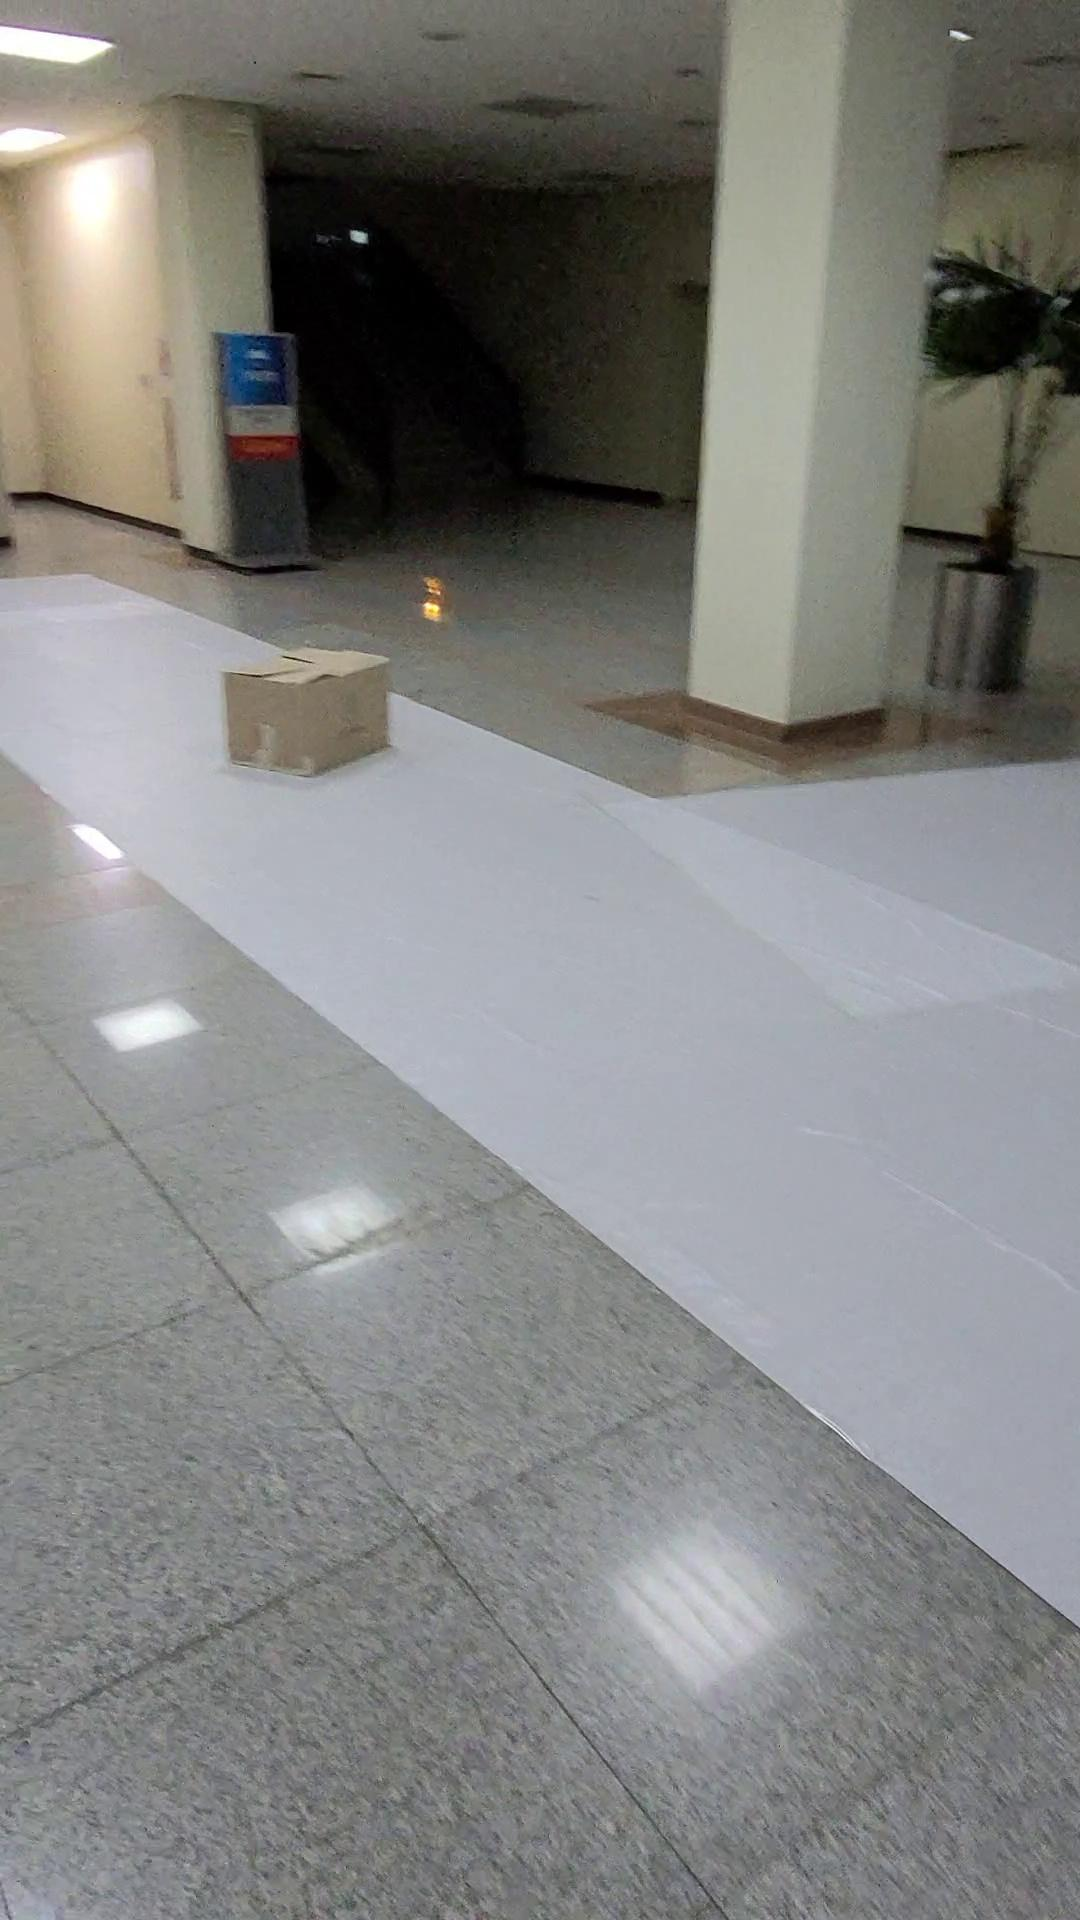Box: (198, 630, 397, 804)
